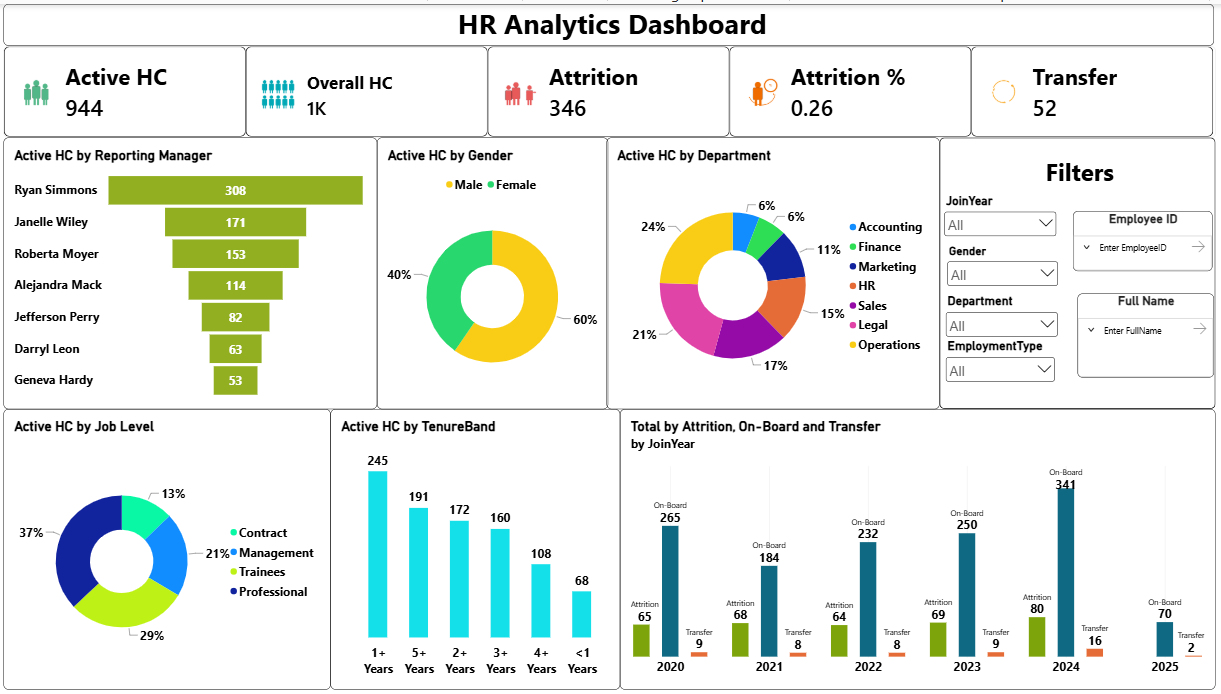

Layout of this report page (visuals, bound fields, positions):
{"tool":"powerbi","page":{"name":"  Page 1","canvas":[1920,1080],"ordinal":0},"visuals":[{"type":"textbox","box":[16.4,0,1892,65.6],"z":0},{"type":"shape","box":[1479.4,208.7,431.4,424.4],"z":0,"group":"g4"},{"type":"group","id":"g1","title":"Group 1","box":[1568.8,236.6,260.2,56.3],"z":0,"group":"g2"},{"type":"group","id":"g2","title":"Group 3","box":[1482.2,236.6,426.3,363.2],"z":1000,"group":"g4"},{"type":"group","id":"g3","title":"Group 2","box":[1482.2,295.1,426.3,304.7],"z":1000,"group":"g2"},{"type":"slicer","fields":{"Values":["HR_Master_Data.Department"]},"box":[1484.5,452.2,185.2,75],"z":1000,"group":"g3"},{"type":"pieChart","title":"Active HC by Job Level","fields":{"Category":["HR_Master_Data.JobLevel"],"Y":["HR_Master_Data.Active HC"]},"box":[16.4,633,511.1,438.4],"z":1000},{"type":"cardVisual","fields":{"Data":["HR_Master_Data.Active HC","HR_Master_Data.Overall HC","HR_Master_Data.Attrition","HR_Master_Data.Attrition %","HR_Master_Data.Transfer"]},"box":[16.4,65.6,1894.3,143],"z":2000},{"type":"slicer","fields":{"Values":["HR_Master_Data.Gender"]},"box":[1486.9,374.8,182.9,79.7],"z":3000,"group":"g3"},{"type":"lineClusteredColumnComboChart","title":"Total by Attrition, On-Board and Transfer ","fields":{"Category":["HR_Master_Data.JoinYear"],"Y":["HR_Master_Data.Attrition","HR_Master_Data.On-Board","HR_Master_Data.Transfer"]},"box":[980,633,930.8,438.4],"z":3000},{"type":"donutChart","title":"Active HC by Gender","fields":{"Category":["HR_Master_Data.Gender"],"Y":["HR_Master_Data.Active HC"]},"box":[600.2,208.7,361.1,424.4],"z":4000},{"type":"donutChart","title":"Active HC by Department","fields":{"Y":["HR_Master_Data.Active HC"],"Category":["HR_Master_Data.Department"]},"box":[958.9,208.7,520.5,424.4],"z":5000},{"type":"slicer","fields":{"Values":["HR_Master_Data.JoinYear"]},"box":[1482.2,295.1,185.2,77.4],"z":5000,"group":"g3"},{"type":"funnel","title":"Active HC by Reporting Manager","fields":{"Category":["HR_Master_Data.ReportingManager"],"Y":["HR_Master_Data.Active HC"]},"box":[16.4,208.7,583.8,424.4],"z":6000},{"type":"slicer","fields":{"Values":["HR_Master_Data.EmploymentType"]},"box":[1484.1,522.4,180.5,77.4],"z":7000,"group":"g3"},{"type":"columnChart","fields":{"Category":["HR_Master_Data.TenureBand"],"Y":["HR_Master_Data.Active HC"]},"box":[527.5,633,452.5,438.4],"z":7000},{"type":"group","id":"g4","title":"Group 4","box":[1479.4,208.7,431.4,424.4],"z":8000},{"type":"textSlicer","title":"Full Name","fields":{"Values":["HR_Master_Data.FullName"]},"box":[1695.1,452.1,213.3,131.3],"z":9000,"group":"g3"},{"type":"textSlicer","title":"Employee  ID","fields":{"Values":["HR_Master_Data.EmployeeID"]},"box":[1688.1,323.2,218,93.8],"z":11000,"group":"g3"},{"type":"textbox","box":[1568.8,236.6,260.2,56.3],"z":14501,"group":"g1"}]}

Visuals, with their boxes in screenshot pixels (x1, y1, x2, y2), scaled from the page's 1920x1080 canvas onto the 1221x694 screenshot:
textbox: 10,0,1214,42
shape: 941,134,1215,407
"Group 1" group: 998,152,1163,188
"Group 3" group: 943,152,1214,385
"Group 2" group: 943,190,1214,385
slicer - HR_Master_Data.Department: 944,291,1062,339
"Active HC by Job Level" pieChart: 10,407,335,688
cardVisual - HR_Master_Data.Active HC x HR_Master_Data.Overall HC: 10,42,1215,134
slicer - HR_Master_Data.Gender: 946,241,1062,292
"Total by Attrition, On-Board and Transfer " lineClusteredColumnComboChart: 623,407,1215,688
"Active HC by Gender" donutChart: 382,134,611,407
"Active HC by Department" donutChart: 610,134,941,407
slicer - HR_Master_Data.JoinYear: 943,190,1060,239
"Active HC by Reporting Manager" funnel: 10,134,382,407
slicer - HR_Master_Data.EmploymentType: 944,336,1059,385
columnChart - HR_Master_Data.TenureBand x HR_Master_Data.Active HC: 335,407,623,688
"Group 4" group: 941,134,1215,407
"Full Name" textSlicer: 1078,291,1214,375
"Employee  ID" textSlicer: 1074,208,1212,268
textbox: 998,152,1163,188
